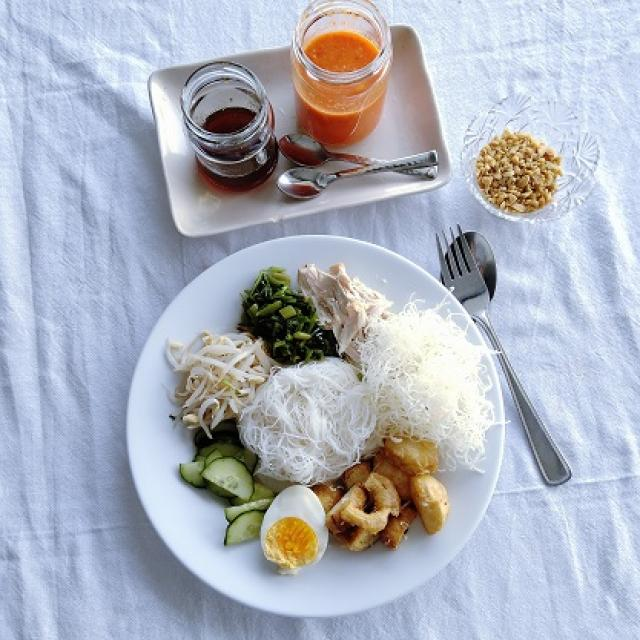Carbohydrate: (240, 296, 490, 475)
Protein: (254, 443, 454, 568)
Taokua: (128, 227, 506, 620)
Vegetable: (240, 257, 334, 365)
